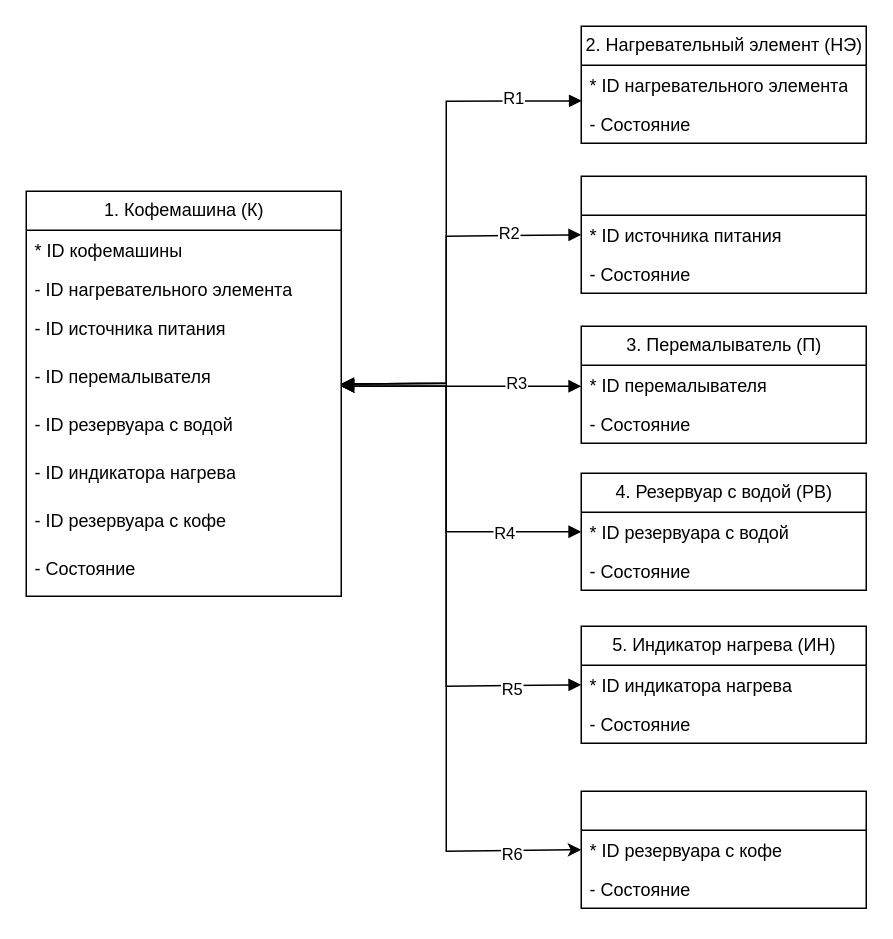
The diagram is 893 pixels wide and 939 high, and some of its shapes have lost their labels. Here are the shapes that lost their labels. From the top down, the box of each, then its label:
(580, 175, 866, 293): 3. Источник питания (ИП)
(580, 790, 866, 908): 6. Резервуар с кофе (РК)
